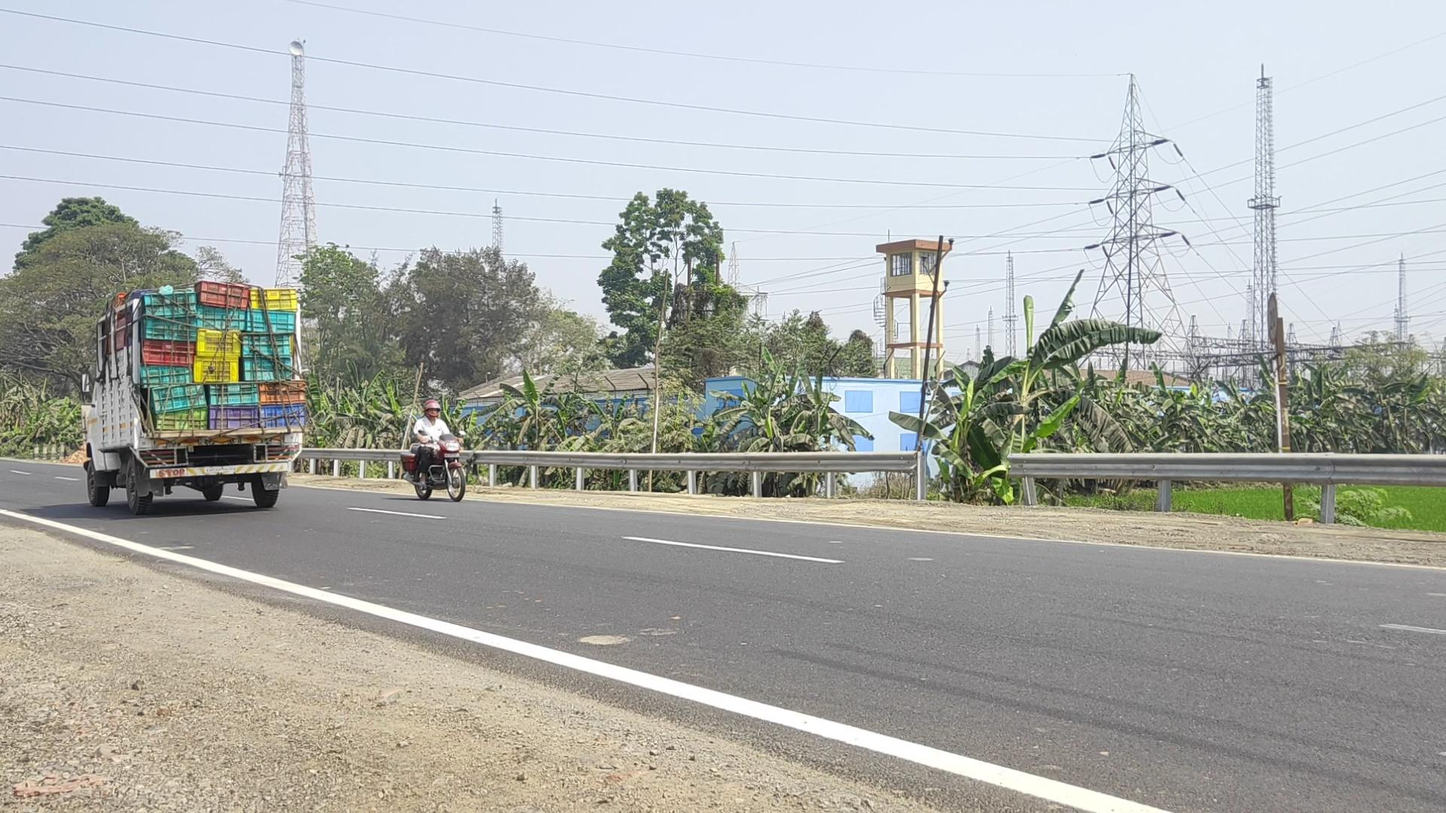bike: (400, 400, 466, 502)
truck: (81, 279, 308, 517)
